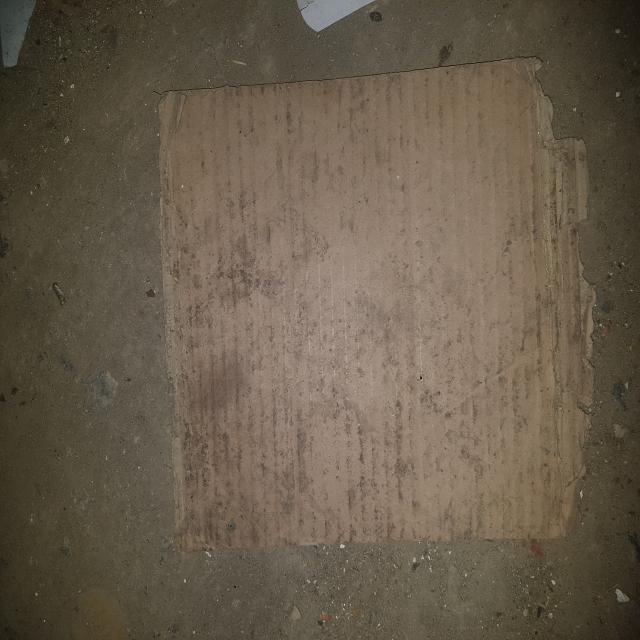electronic: (158, 56, 596, 551), (296, 0, 374, 33), (0, 0, 36, 68)
